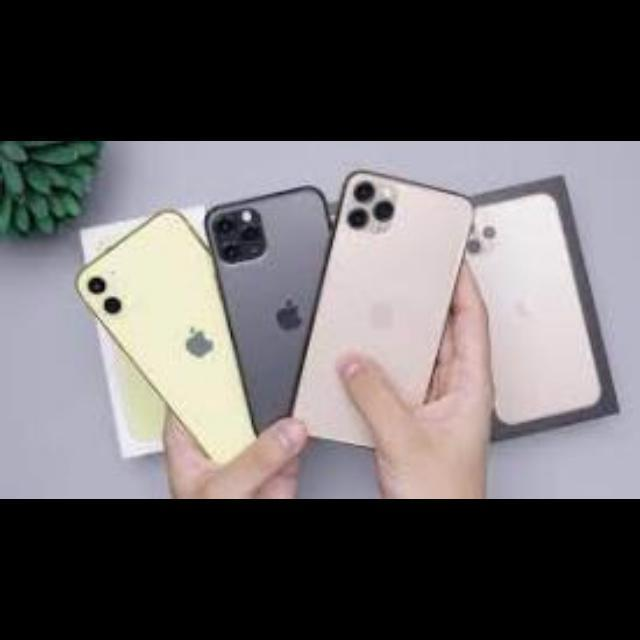phone: (78, 184, 488, 461)
